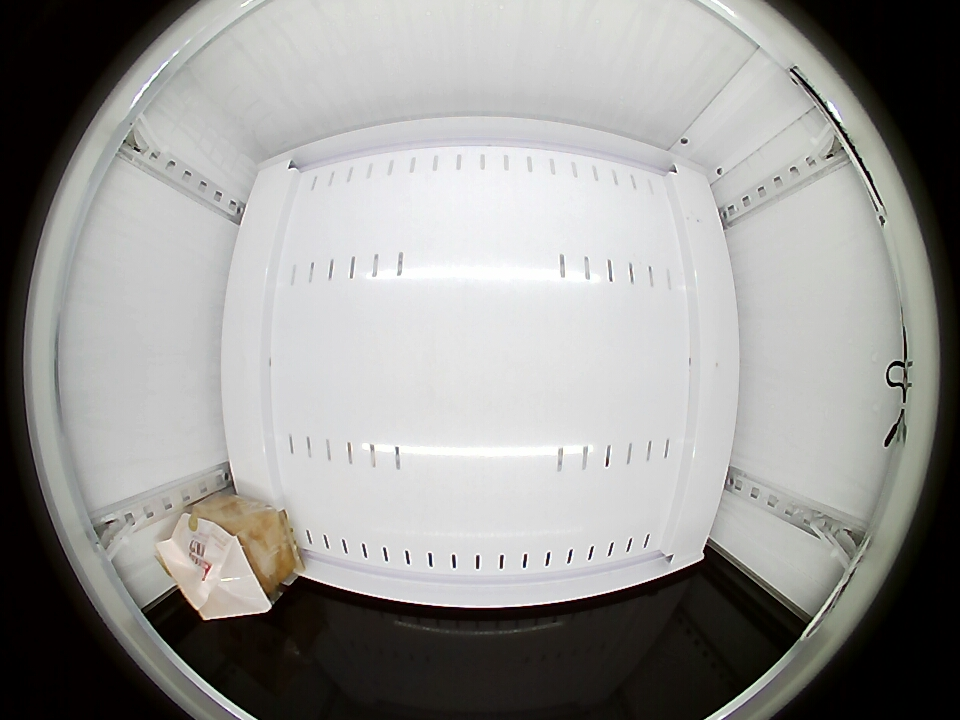zaocanmofang: (155, 507, 277, 621)
